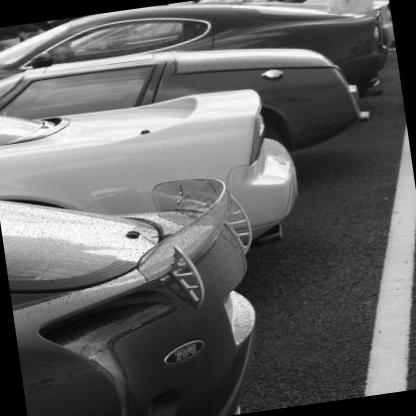car: (1, 142, 287, 416), (1, 23, 366, 187), (1, 77, 296, 263), (1, 1, 386, 135)
